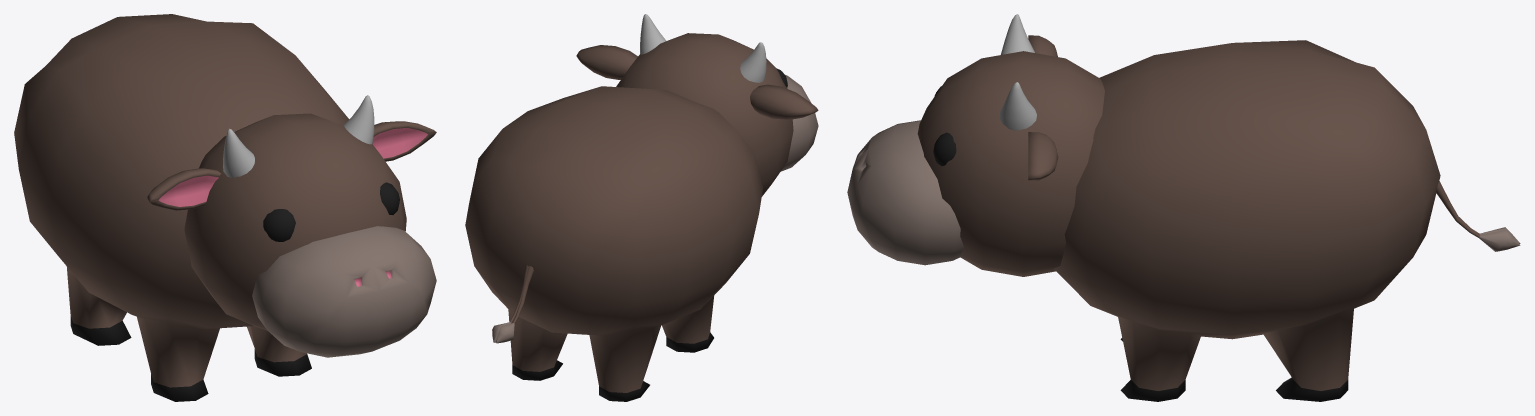
File: Cow Brown.fbx
3 views of the same model, side by side, from view 1: azimuth 30°, elevation 25°; view 2: azimuth 150°, elevation 25°; view 3: azimuth 270°, elevation 25° (orthographic). The views are drawn at different scales.
Parts seen in each view (by area): view 1: Cow.003; view 2: Cow.003; view 3: Cow.003.
Boxes of the visible parts, <box> form: Cow.003: <box>14,14,436,401</box>; Cow.003: <box>465,14,818,401</box>; Cow.003: <box>847,14,1520,401</box>.
Size of the model in its own units: 196 by 204 by 394.
1 material, 1 textured.
